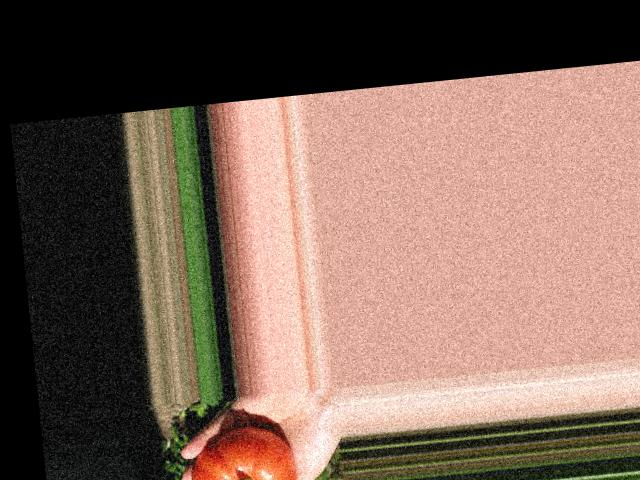tomato: (186, 423, 299, 480)
